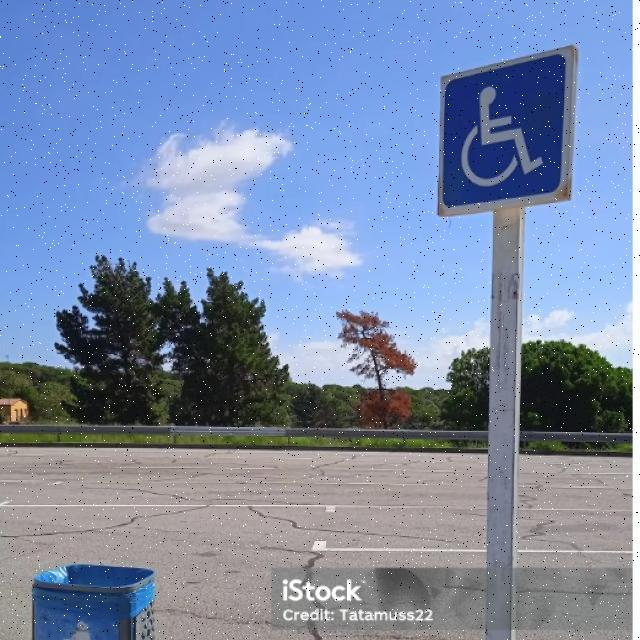symbol_of_access: (436, 43, 582, 219)
